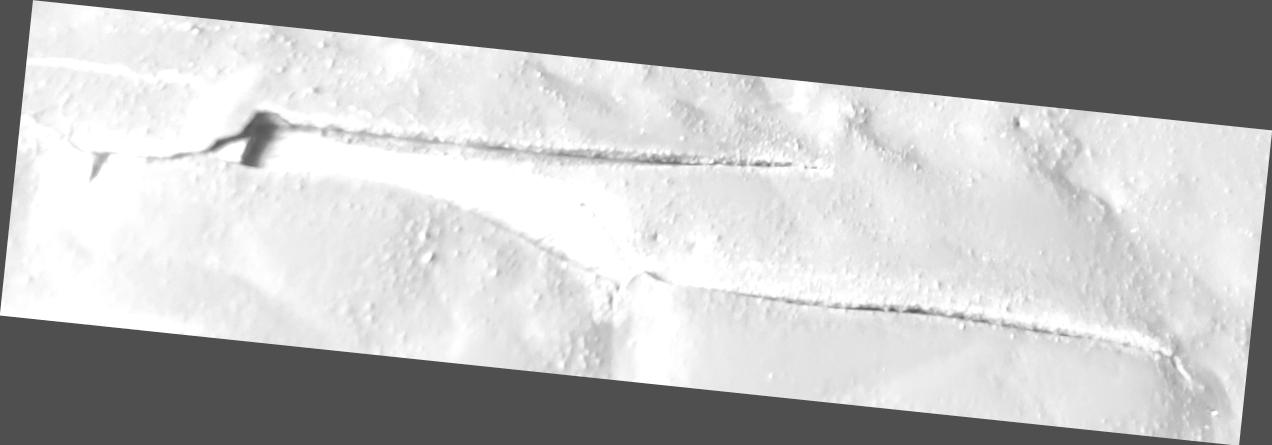crack: (1, 0, 1272, 445)
